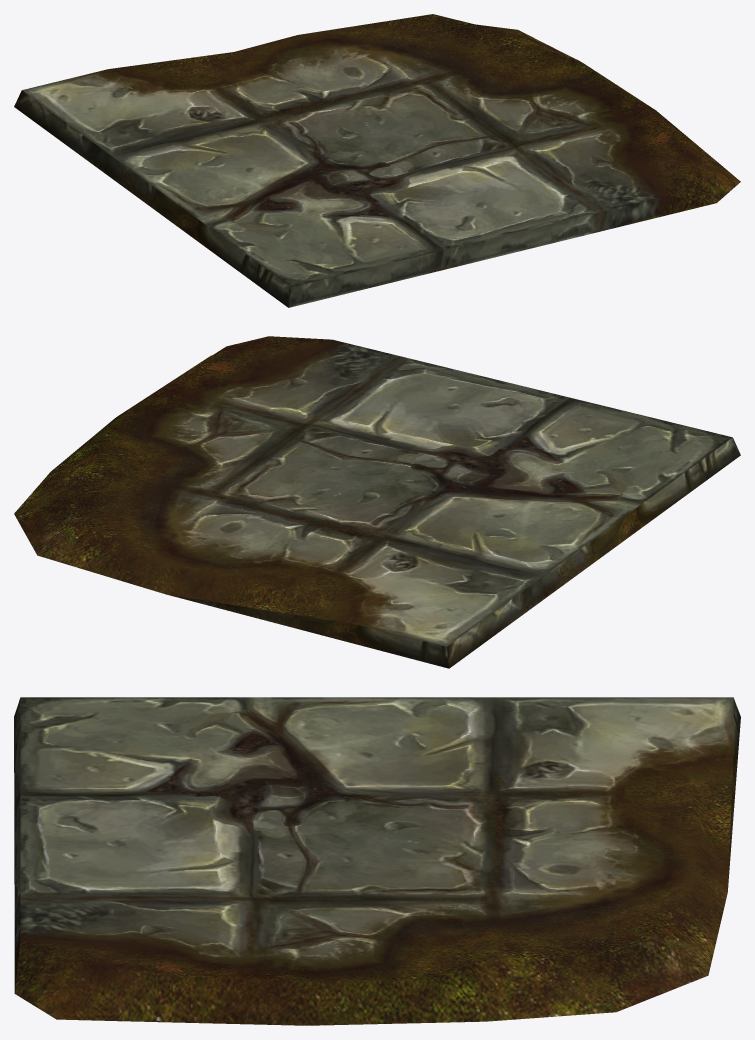
File: C_dizhuan003.fbx
The picture shows the model from 3 angles, top to bottom: view 1: azimuth 30°, elevation 25°; view 2: azimuth 150°, elevation 25°; view 3: azimuth 270°, elevation 25°; orthographic projection. The views are drawn at different scales.
Visible parts, largest first — view 1: C_dizhuan003; view 2: C_dizhuan003; view 3: C_dizhuan003.
Part boxes in pixels (x1,y1,x2,y2): C_dizhuan003: (14, 14, 740, 307); C_dizhuan003: (14, 336, 740, 668); C_dizhuan003: (14, 697, 740, 1025).
Size of the model in its own units: 490 by 24.85 by 487.
